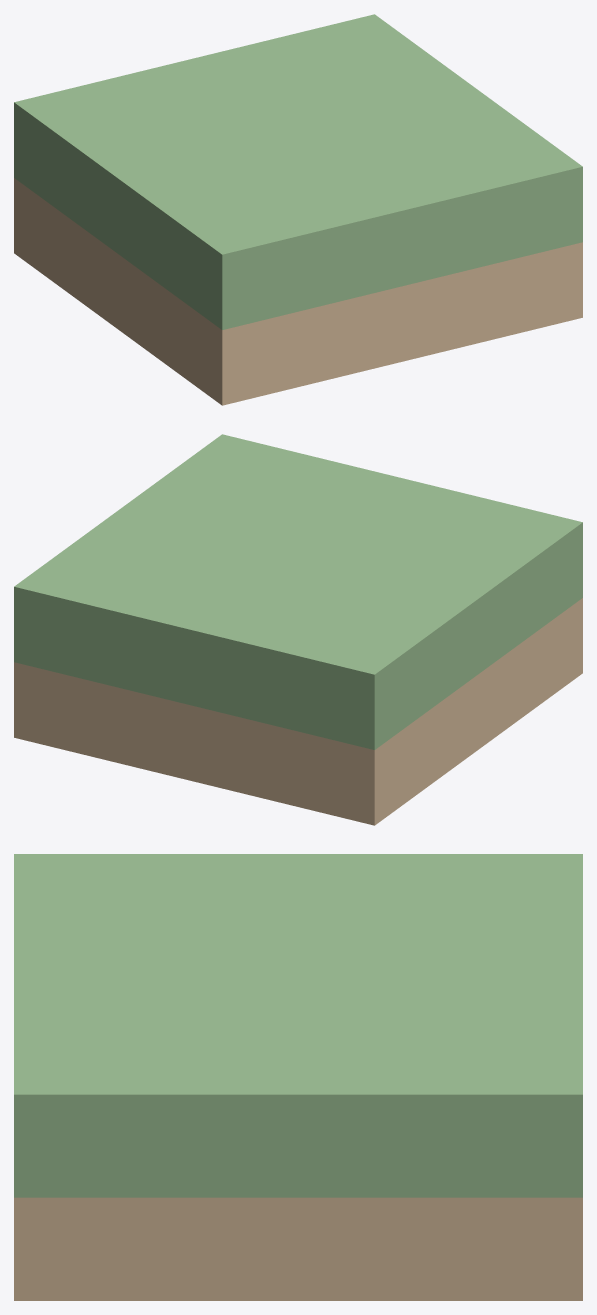
Rendered from tile_087.glb.
3 renders of one model, top to bottom at view 1: azimuth 30°, elevation 25°; view 2: azimuth 150°, elevation 25°; view 3: azimuth 270°, elevation 25°, orthographic. The views are drawn at different scales.
Visible parts, largest first — view 1: tile_087; view 2: tile_087; view 3: tile_087.
Part boxes in pixels (left/top/right/bottom): tile_087: left=14, top=14, right=582, bottom=405; tile_087: left=14, top=434, right=582, bottom=825; tile_087: left=14, top=854, right=582, bottom=1300.
Size of the model in its own units: 1 by 0.4 by 1.
